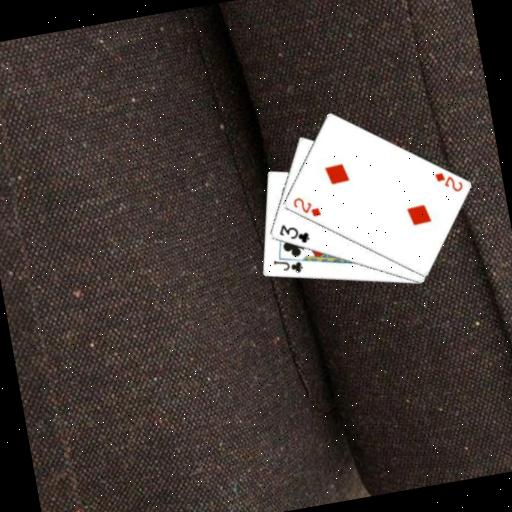2D: (288, 190, 323, 221), (430, 165, 465, 196)
3C: (274, 217, 312, 249)
JC: (269, 253, 305, 279)
